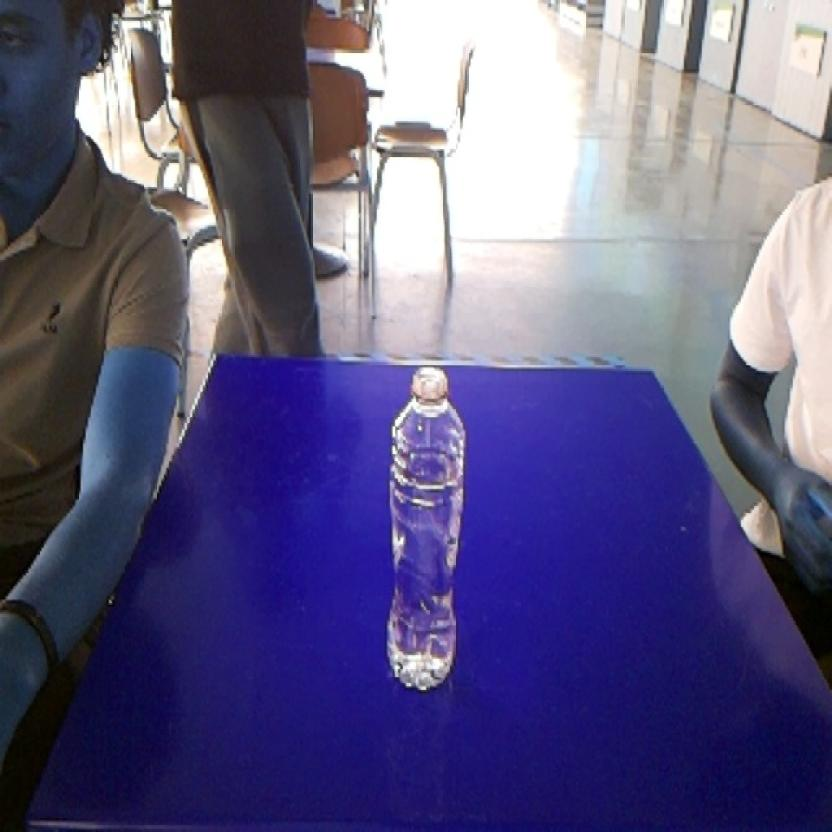no_cap: (380, 359, 472, 696)
